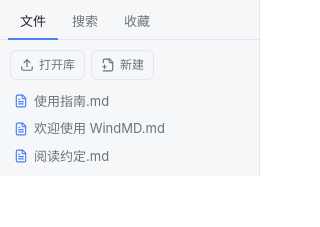
Sidebar — 新建文件 › Escape 取消新建
Click the button titled "在库根新建文件" at coordinates (122, 64), box [91,50,154,80]
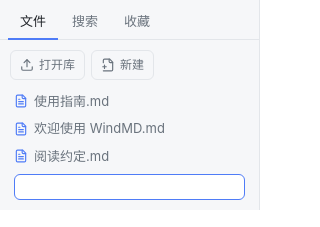
Press Escape in the field with class "tree-name-input", box [14,174,245,200]
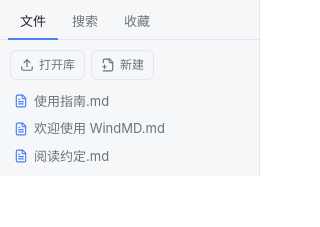
expect the field with class "tree-name-input" is gone: met
